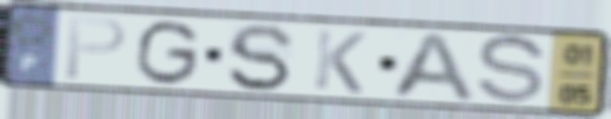A: (384, 30, 480, 105)
G: (132, 18, 203, 88)
K: (310, 26, 370, 97)
P: (61, 14, 130, 82)
S: (473, 32, 550, 108), (224, 21, 299, 94)
